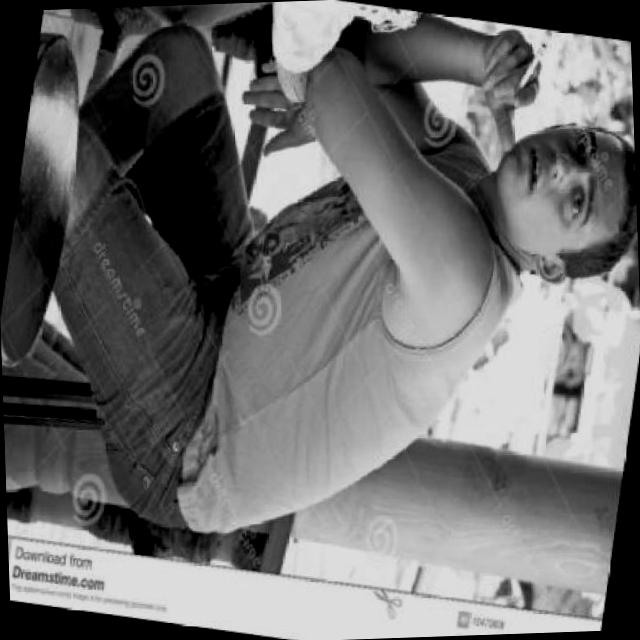cigarette: (504, 36, 548, 110)
